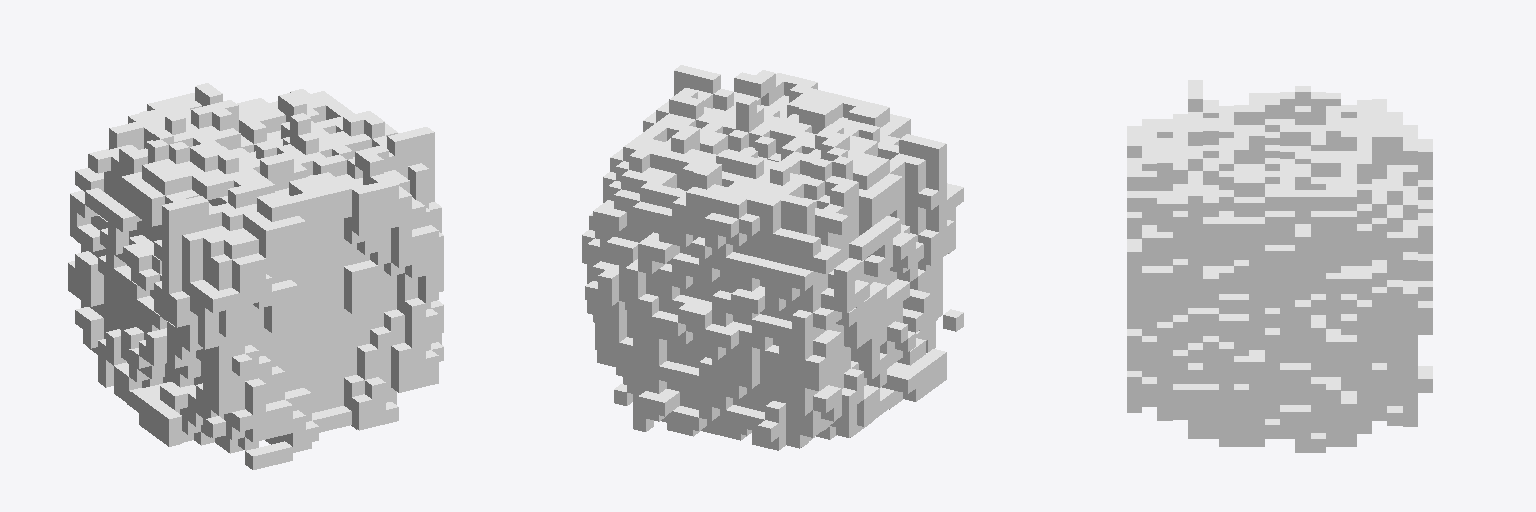
The model's file is PetSheep.obj.
The picture shows the model from 3 angles: view 1: azimuth 30°, elevation 25°; view 2: azimuth 150°, elevation 25°; view 3: azimuth 270°, elevation 25°; orthographic projection.
Parts seen in each view (by area): view 1: object 1; view 2: object 1; view 3: object 1.
Part boxes in pixels (x1,y1,x2,y2): object 1: (68, 83, 443, 469); object 1: (582, 65, 963, 450); object 1: (1127, 80, 1432, 452).
Bounding box in the file's own units: 2 × 2 × 2.